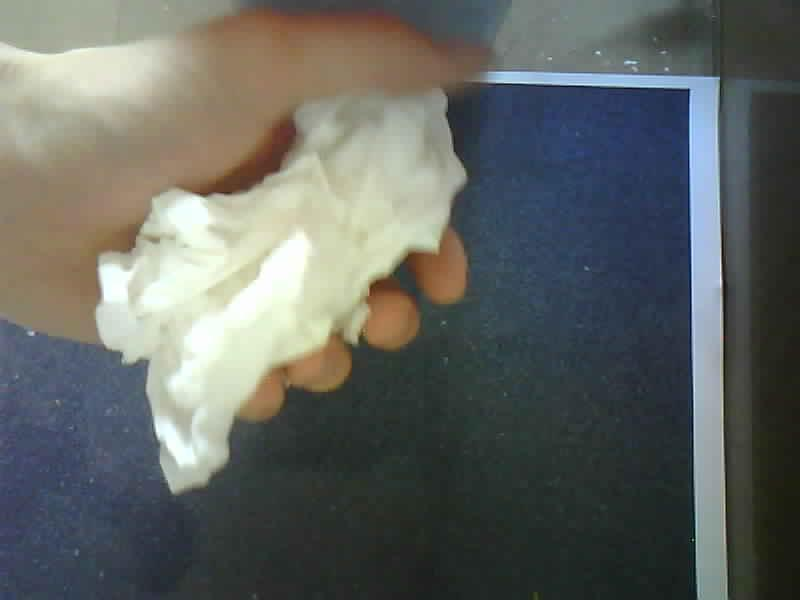paper: (98, 92, 466, 494)
